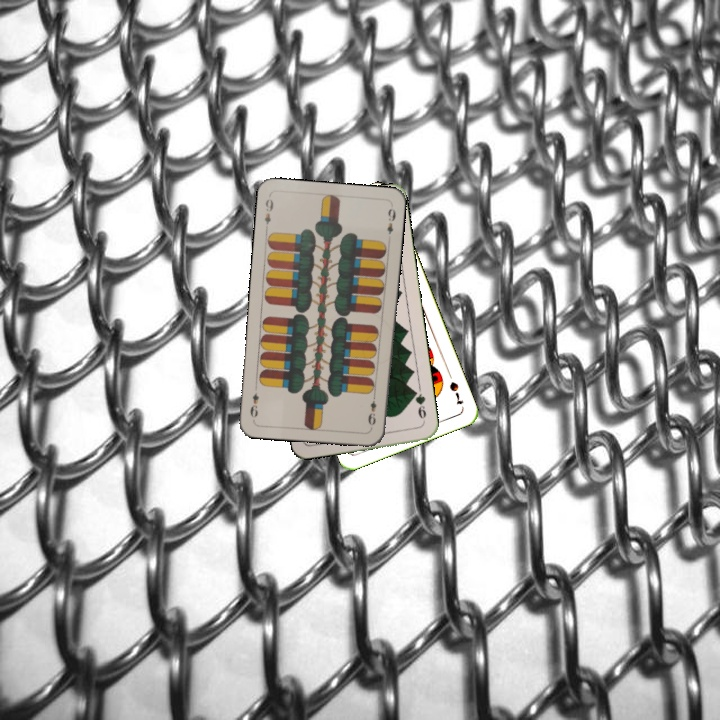E9: (364, 390, 379, 431), (260, 195, 276, 233)
G9: (409, 386, 429, 426)
S7: (445, 377, 466, 407)
